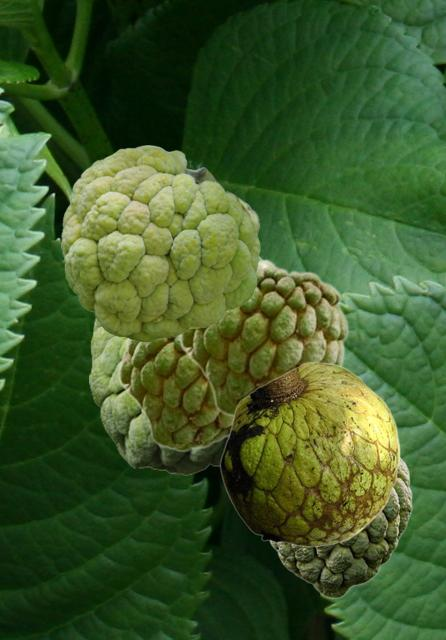atis: (61, 145, 259, 341), (219, 361, 399, 546), (177, 258, 348, 419), (89, 317, 225, 474), (269, 457, 411, 597), (116, 337, 231, 451)
